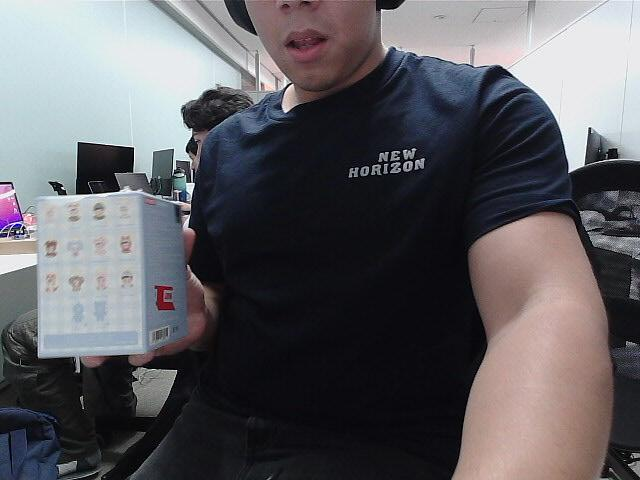Blind_box: (35, 191, 191, 358)
